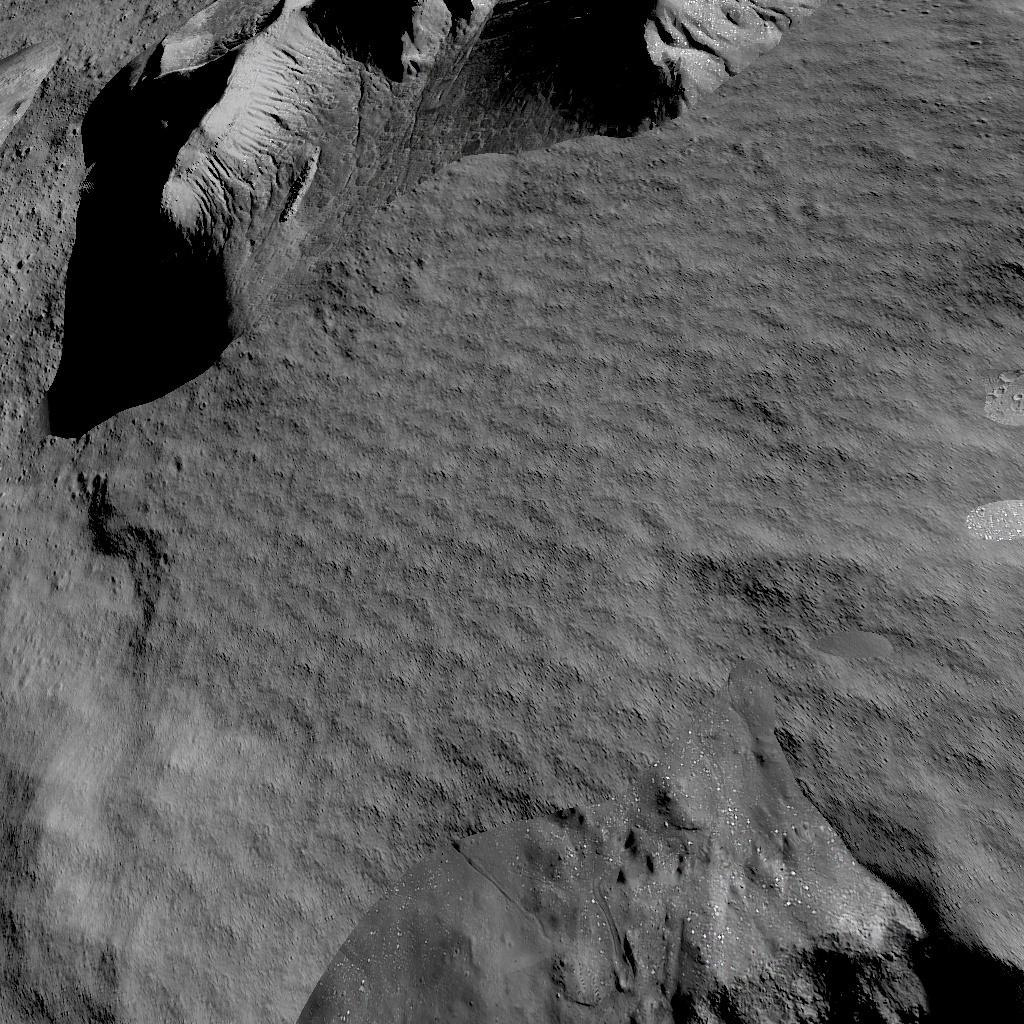Boulders: (46, 0, 825, 440)
Crater: (298, 822, 1024, 1024)
Plan surface: (0, 452, 1024, 812), (841, 2, 1024, 440), (0, 822, 286, 1024)
